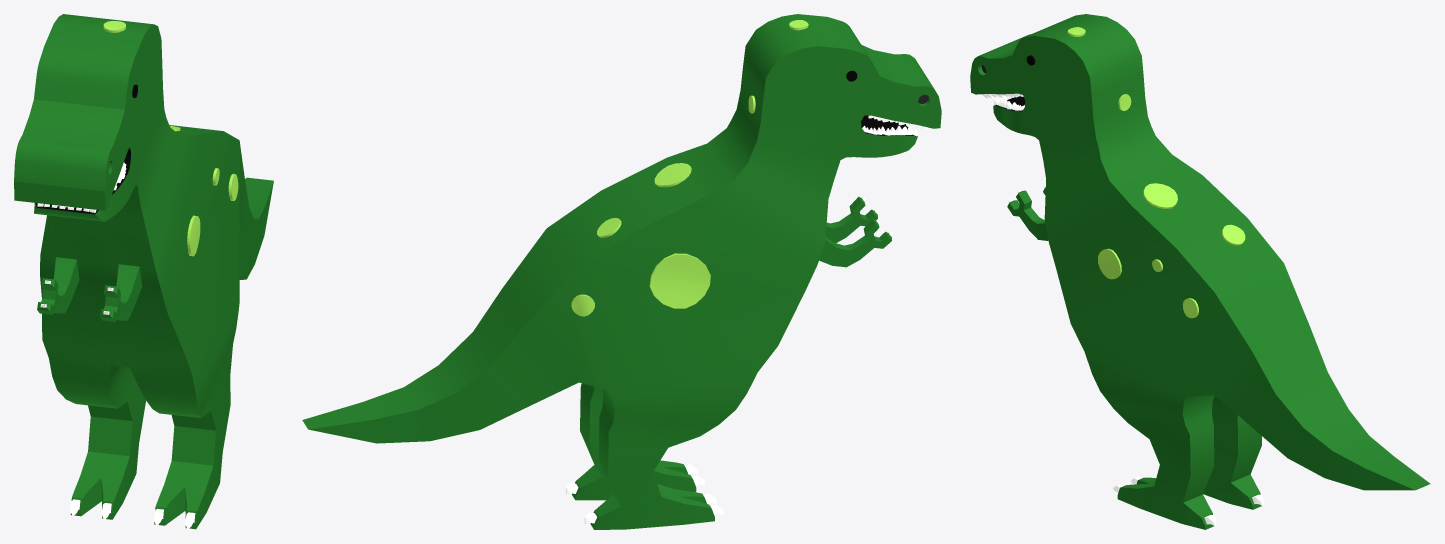
File: t_rex.gltf
The picture shows the model from 3 angles, left to right: view 1: azimuth 30°, elevation 25°; view 2: azimuth 150°, elevation 25°; view 3: azimuth 270°, elevation 25°; orthographic projection. The views are drawn at different scales.
Parts seen in each view (by area): view 1: Plane.166; view 2: Plane.166; view 3: Plane.166.
Boxes of the visible parts, left/top/right/bottom form: Plane.166: left=14, top=14, right=273, bottom=529; Plane.166: left=302, top=14, right=941, bottom=529; Plane.166: left=970, top=14, right=1430, bottom=529.
Bounding box in the file's own units: 2.08 × 2.13 × 2.08.
1 material, 1 textured.
